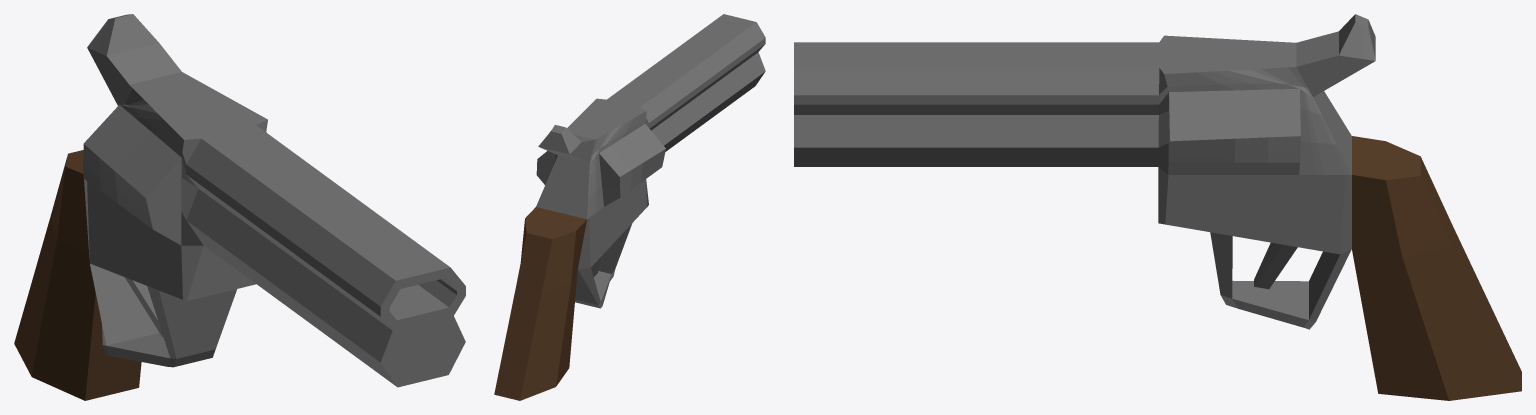
File: revolver.glb
The picture shows the model from 3 angles, left to right: view 1: azimuth 30°, elevation 25°; view 2: azimuth 150°, elevation 25°; view 3: azimuth 270°, elevation 25°; orthographic projection. The views are drawn at different scales.
Visible parts, largest first — view 1: Cube; view 2: Cube; view 3: Cube.
Part boxes in pixels (box(x1,y1,x2,y2)): Cube: box(14, 14, 465, 400); Cube: box(494, 14, 765, 400); Cube: box(794, 14, 1521, 400).
Bounding box in the file's own units: 1.32 × 3.21 × 5.83.
1 material, 1 textured.
